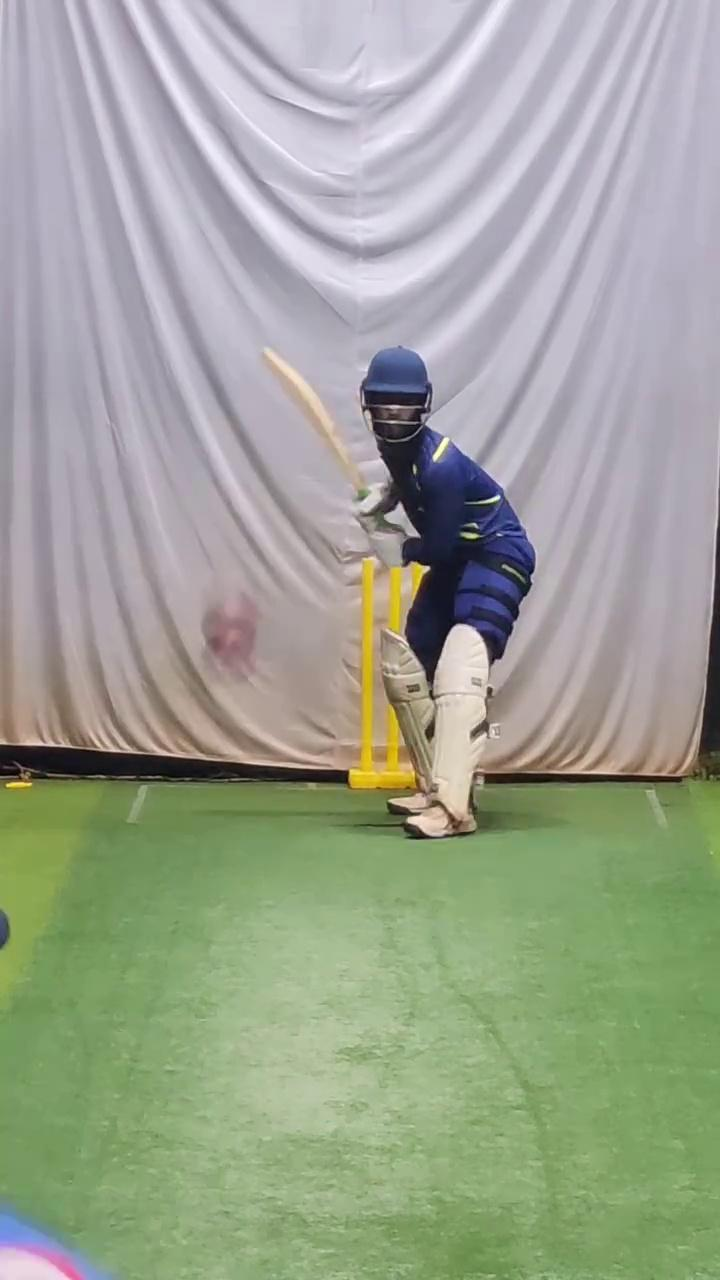bat: (256, 336, 377, 497)
